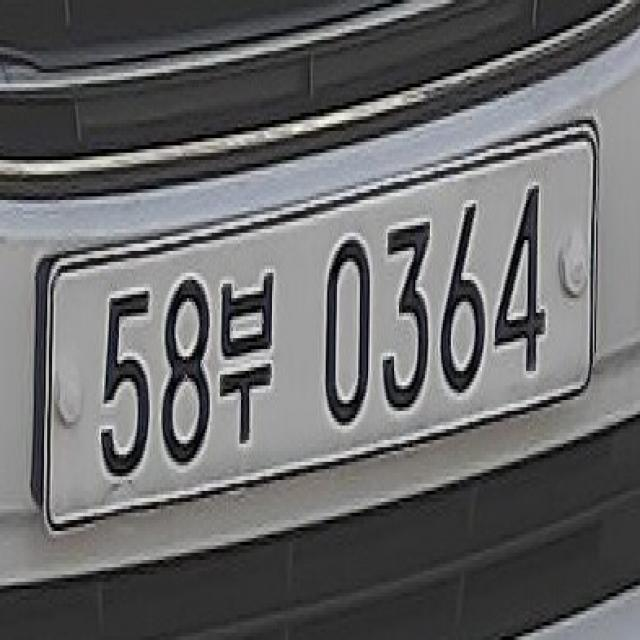0: (324, 218, 372, 431)
3: (377, 204, 432, 420)
4: (493, 174, 548, 382)
5: (100, 273, 155, 483)
6: (436, 192, 489, 408)
8: (160, 264, 213, 464)
bu: (218, 260, 278, 457)
license_plate: (29, 92, 610, 547)
